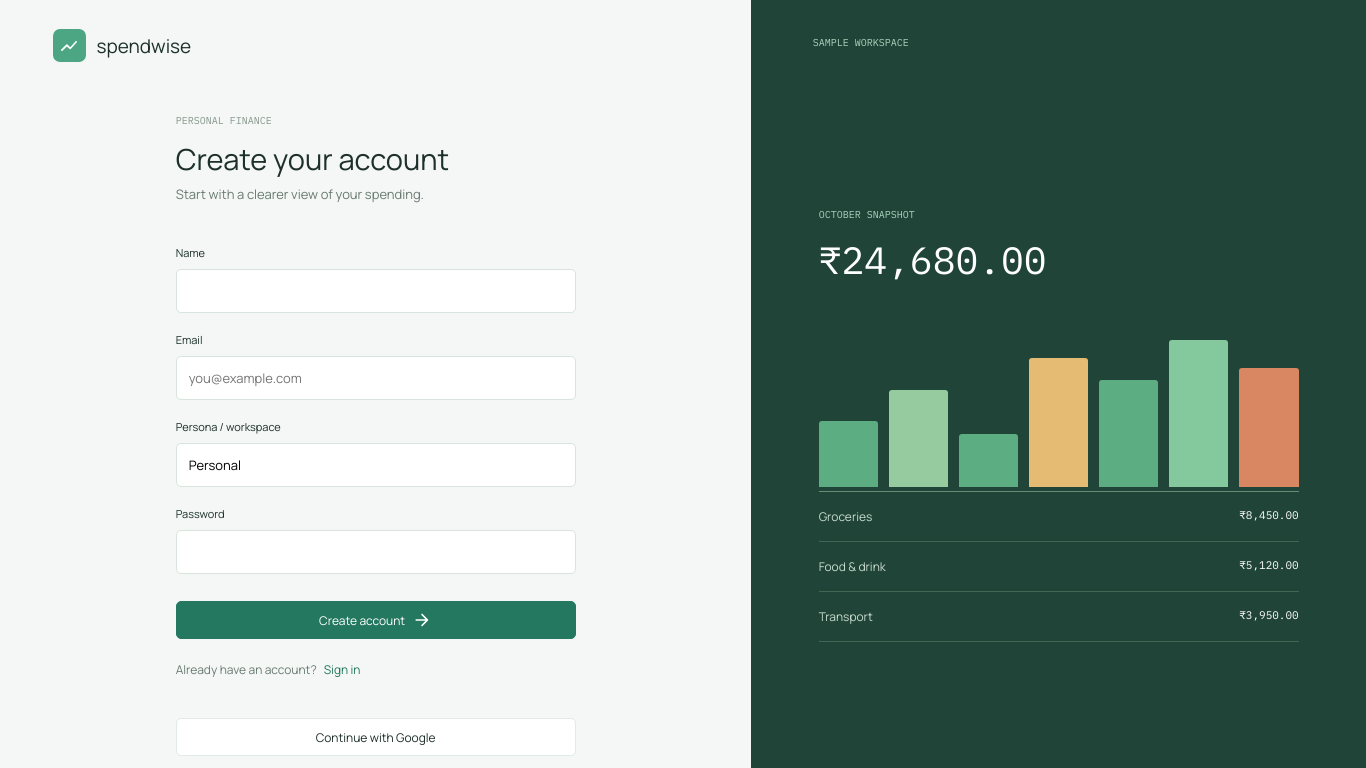
Test: authentication › collects name, persona and password and starts OTP verification
Type "Asha" into the field labelled "Name" at (376, 291), box [176, 269, 576, 313]
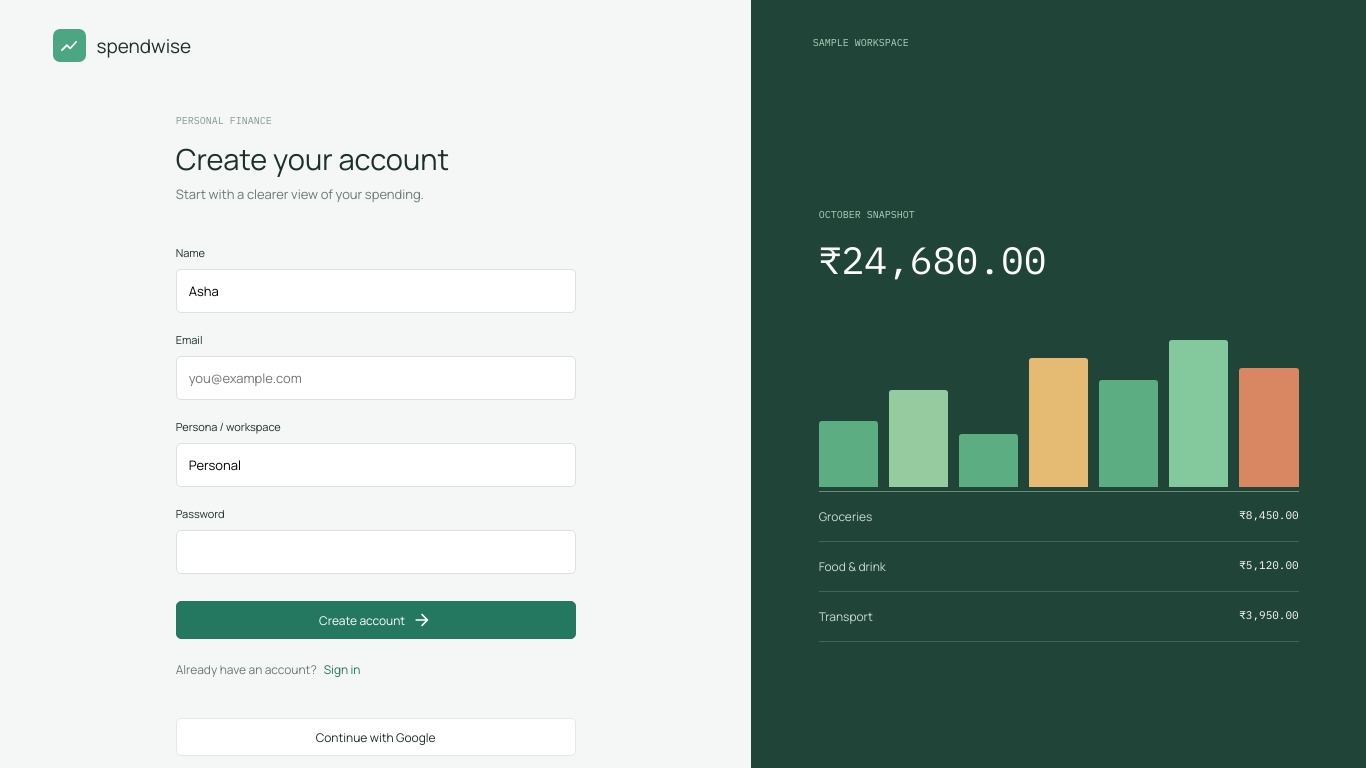
Type "asha@example.com" into the field labelled "Email" at (376, 378), box [176, 356, 576, 400]
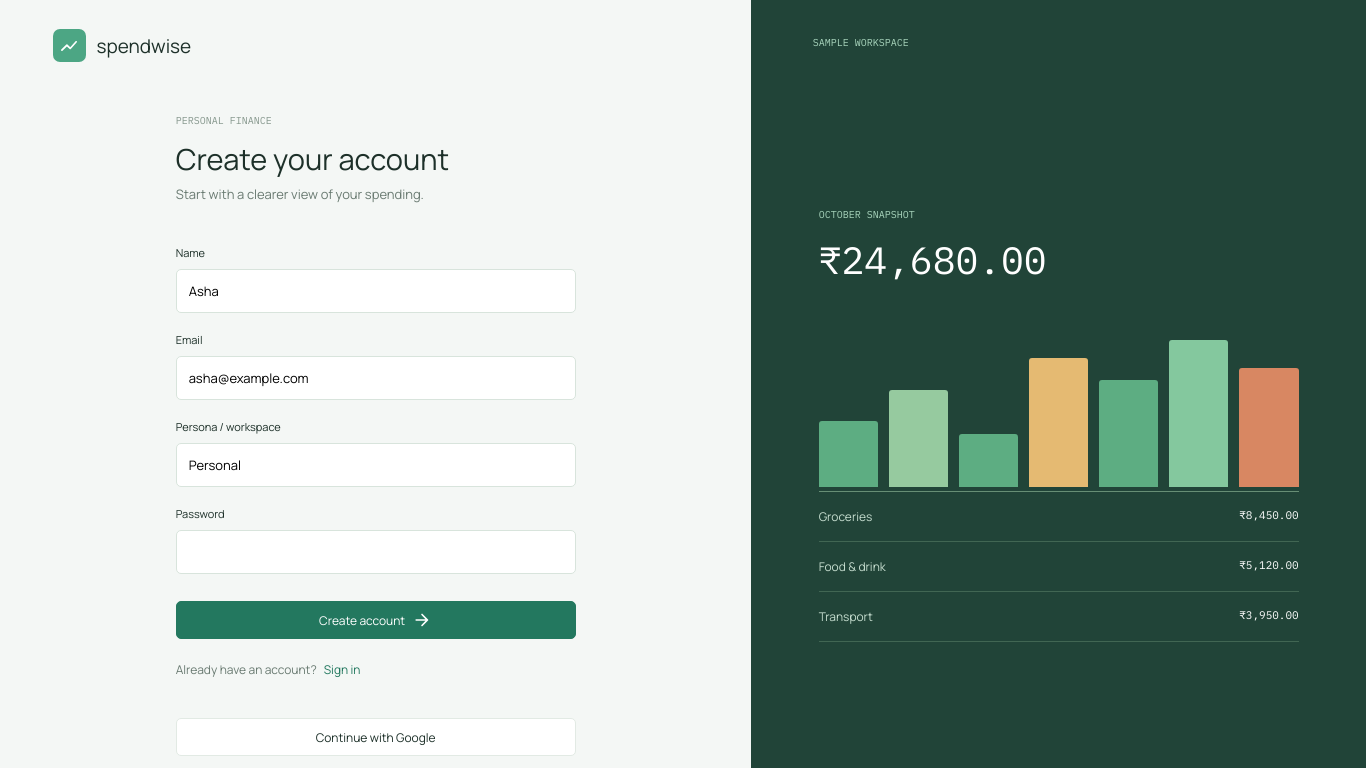
Replace the text in the field labelled "Persona" with "Consulting" at (376, 465), box [176, 443, 576, 487]
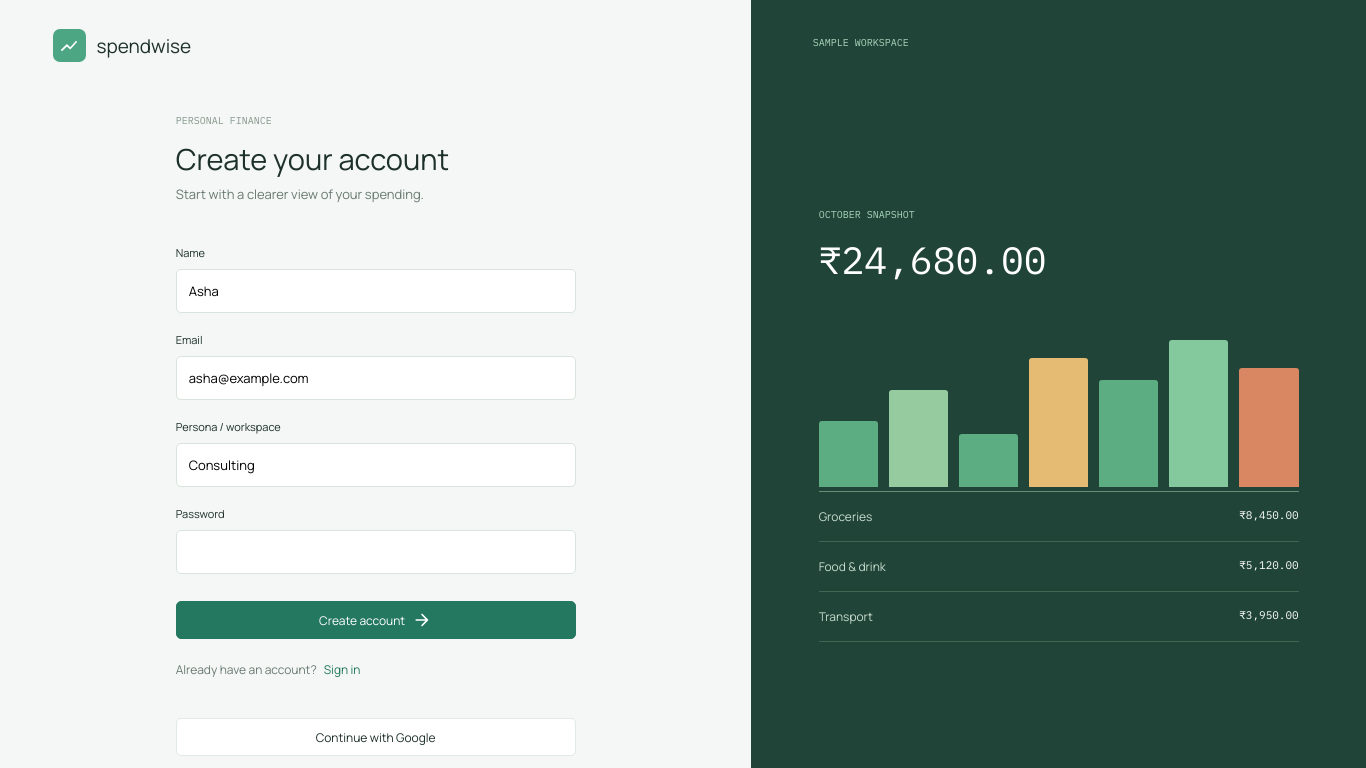
Type "long-test-password" into the password field labelled "Password" at (376, 552), box [176, 530, 576, 574]
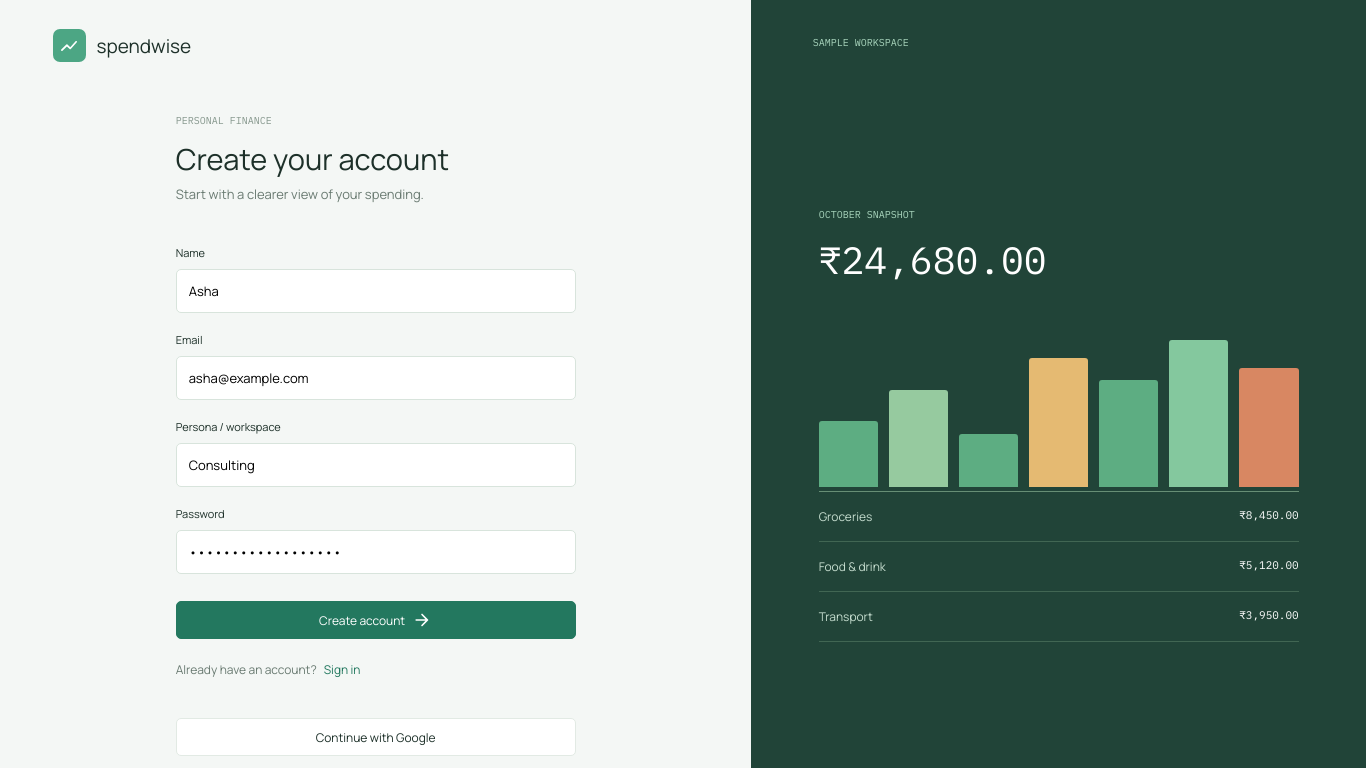
Click the button "Create account" at (376, 620), box [176, 601, 576, 639]
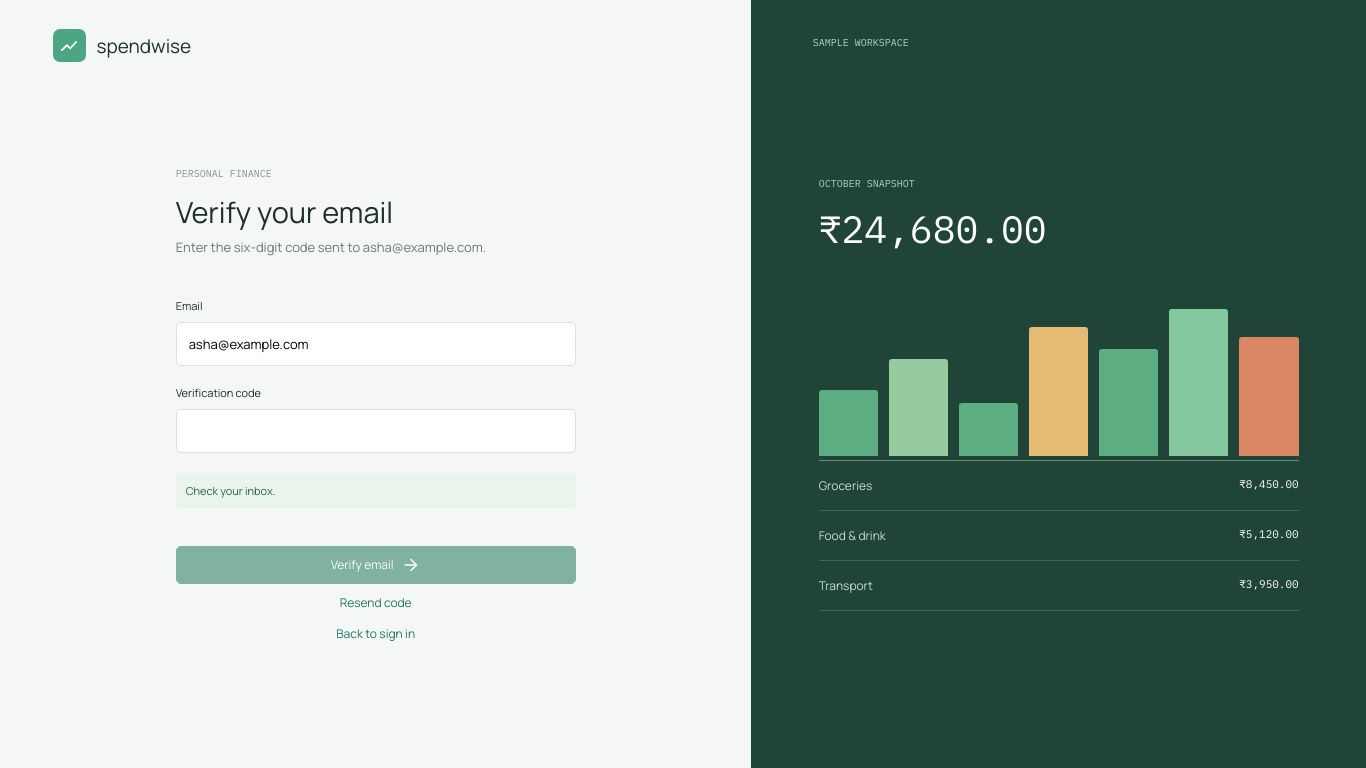
Expected: the field labelled "Verification code" is shown, [176, 408, 576, 452]
